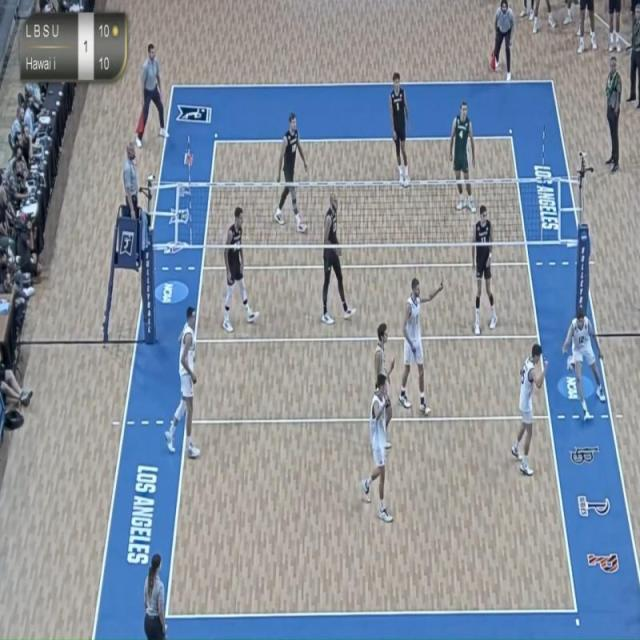volleyball: (563, 351, 578, 376)
